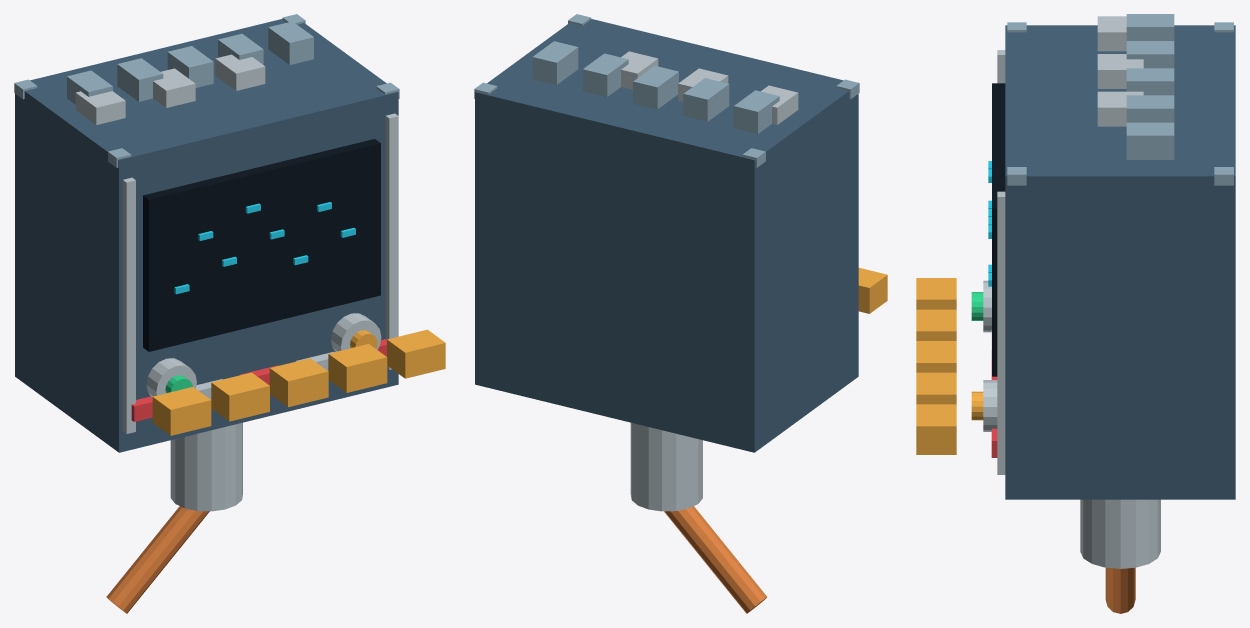
File: 52_L76_ElectrolyteLeakDetectionRelay.fbx
The picture shows the model from 3 angles, left to right: view 1: azimuth 30°, elevation 25°; view 2: azimuth 150°, elevation 25°; view 3: azimuth 270°, elevation 25°; orthographic projection. The views are drawn at different scales.
Parts seen in each view (by area): view 1: ElectrolyteLeakDetectionRelay; view 2: ElectrolyteLeakDetectionRelay; view 3: ElectrolyteLeakDetectionRelay.
Part boxes in pixels (x1,y1,x2,y2): ElectrolyteLeakDetectionRelay: (14, 14, 445, 613); ElectrolyteLeakDetectionRelay: (474, 14, 887, 613); ElectrolyteLeakDetectionRelay: (916, 14, 1235, 613).
Bounding box in the file's own units: 63.86 × 112 × 55.5.
